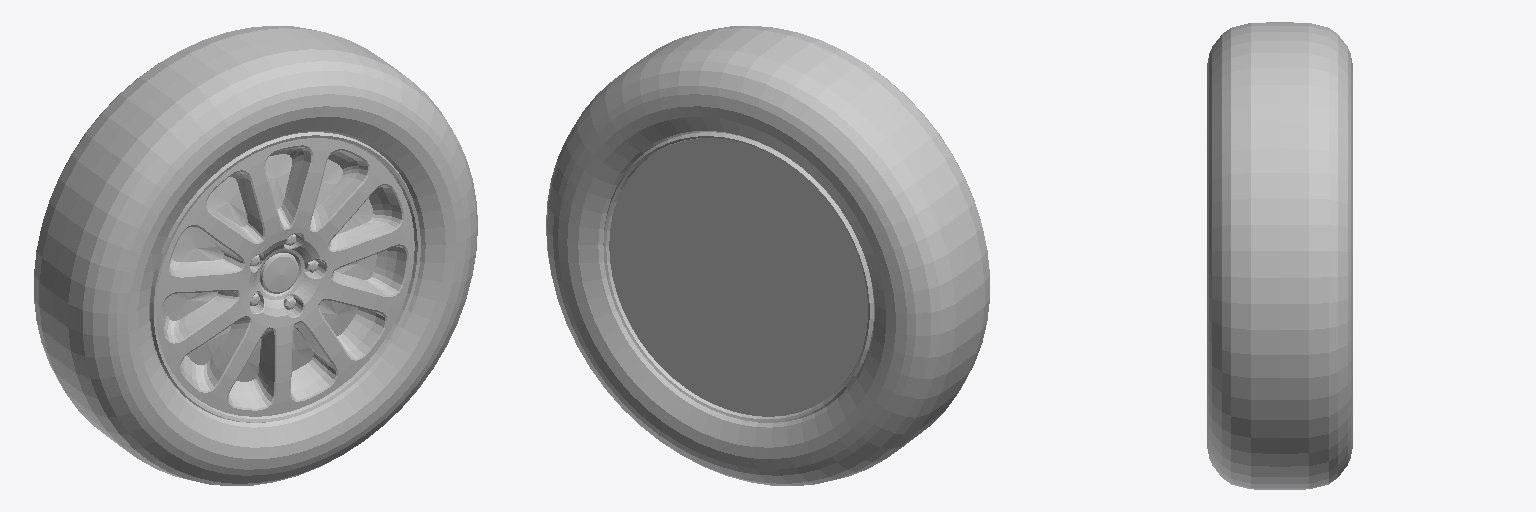
The model's file is wheel 3.obj.
3 views of the same model, side by side, from view 1: azimuth 30°, elevation 25°; view 2: azimuth 150°, elevation 25°; view 3: azimuth 270°, elevation 25° (orthographic).
Visible parts, largest first — view 1: tire, rim, open, tirelogo; view 2: tire, rim; view 3: tire.
Part boxes in pixels (left/top/right/bottom): tire: left=34, top=26, right=477, bottom=485; rim: left=150, top=132, right=420, bottom=422; open: left=165, top=154, right=376, bottom=381; tirelogo: left=260, top=253, right=298, bottom=293; tire: left=546, top=26, right=989, bottom=485; rim: left=603, top=132, right=873, bottom=422; tire: left=1207, top=22, right=1352, bottom=489.
Size of the model in its own units: 26.18 by 26.19 by 8.19.